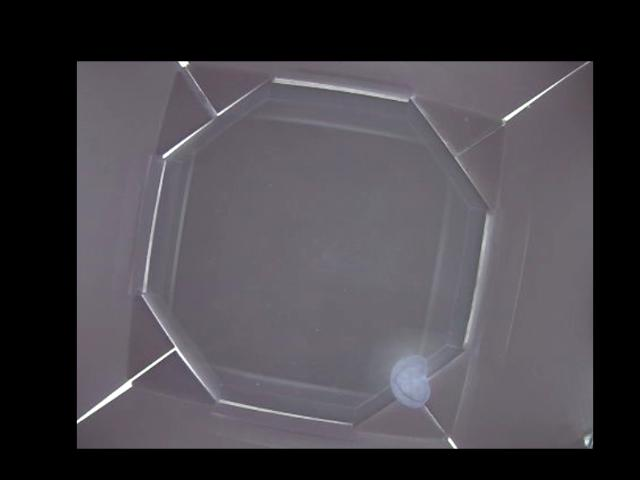Pebble: (392, 352, 429, 406)
